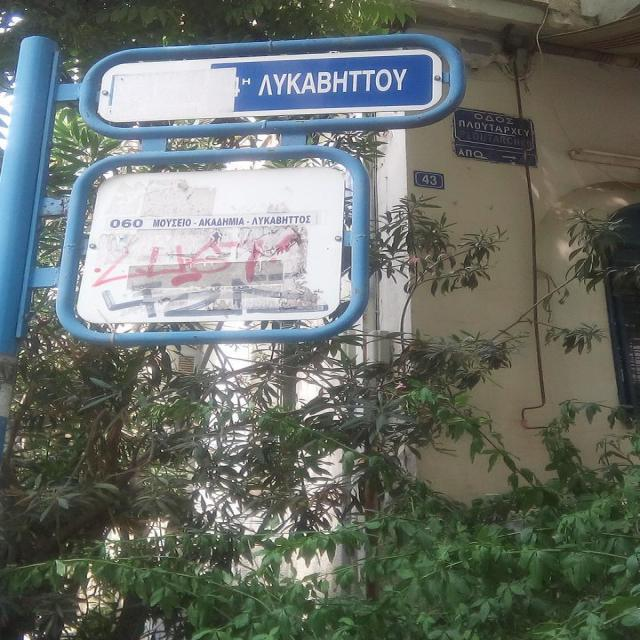nonspitting: (96, 233, 309, 290), (102, 269, 334, 312)
